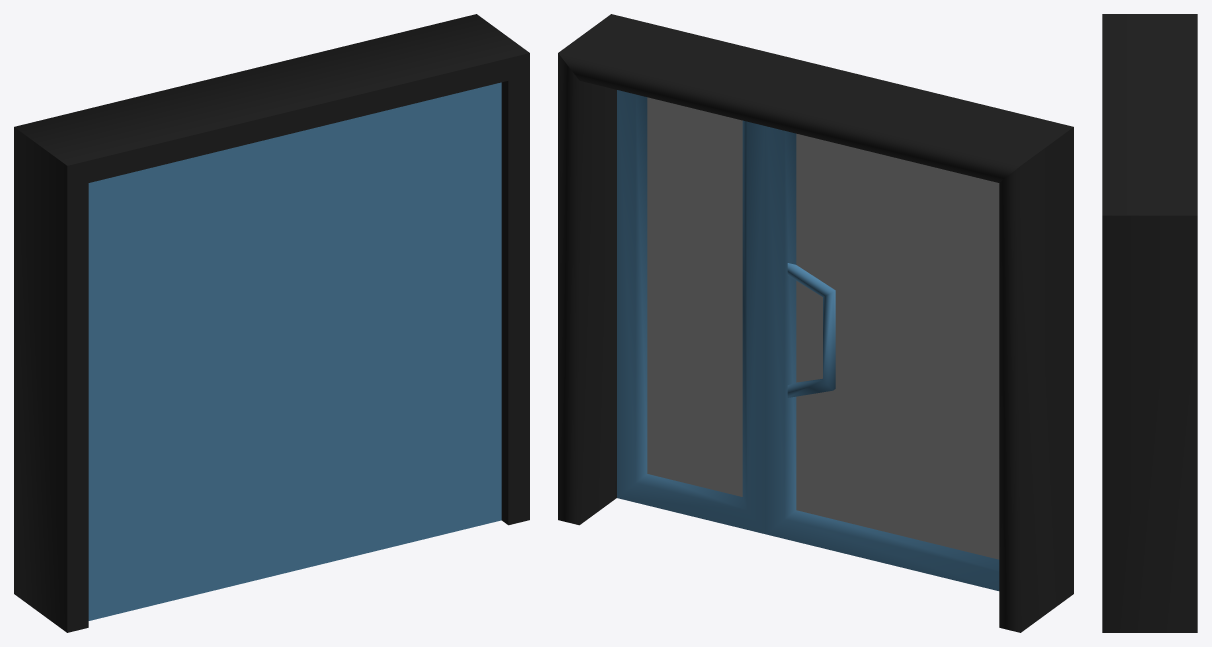
The model's file is G_Door_001_S1.FBX.
3 renders of one model, left to right at view 1: azimuth 30°, elevation 25°; view 2: azimuth 150°, elevation 25°; view 3: azimuth 270°, elevation 25°, orthographic. The views are drawn at different scales.
Visible parts, largest first — view 1: S_M_Ornament_Door001_2x1x2_LOD0; view 2: S_M_Ornament_Door001_2x1x2_LOD0; view 3: S_M_Ornament_Door001_2x1x2_LOD0.
Part boxes in pixels (x1,y1,x2,y2): S_M_Ornament_Door001_2x1x2_LOD0: (14,14,529,632); S_M_Ornament_Door001_2x1x2_LOD0: (558,14,1073,632); S_M_Ornament_Door001_2x1x2_LOD0: (1102,14,1197,632).
Size of the model in its own units: 215 by 208 by 42.88.
